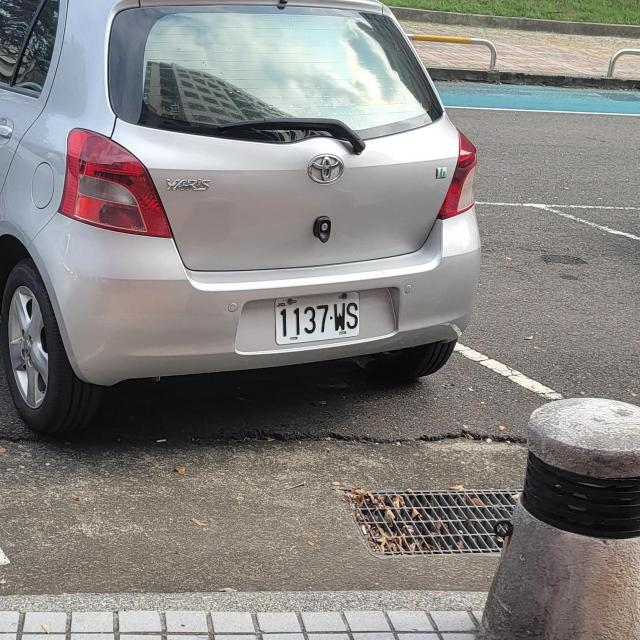W: (270, 287, 364, 349)
